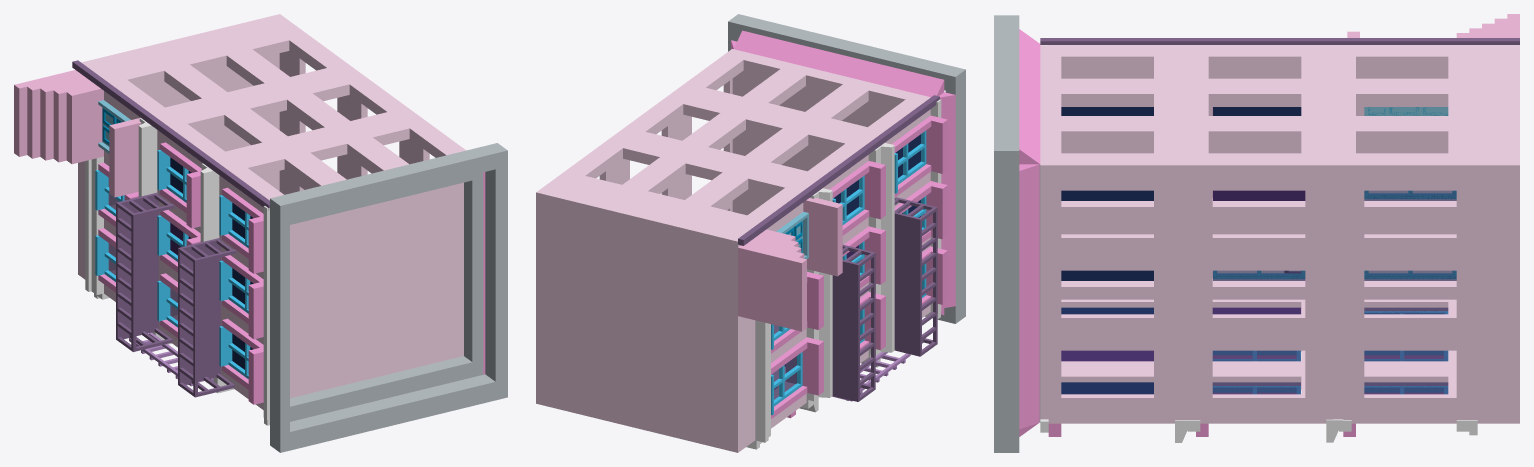
The model's file is tinker.obj.
3 views of the same model, side by side, from view 1: azimuth 30°, elevation 25°; view 2: azimuth 150°, elevation 25°; view 3: azimuth 270°, elevation 25° (orthographic). The views are drawn at different scales.
Parts seen in each view (by area): view 1: obj_93, obj_4, obj_9, obj_110, obj_28, obj_70, obj_66, obj_67, obj_17, obj_16, obj_18, obj_8 (+20 smaller); view 2: obj_93, obj_4, obj_110, obj_70, obj_28, obj_0, obj_67, obj_66, obj_3, obj_18, obj_7, obj_16 (+16 smaller); view 3: obj_93, obj_4, obj_1, obj_66, obj_0, obj_119, obj_115, obj_100, obj_101, obj_125, obj_128, obj_87 (+25 smaller).
Part boxes in pixels (x1,y1,x2,y2): obj_93: [78, 14, 465, 409]; obj_4: [270, 143, 507, 452]; obj_9: [290, 172, 483, 421]; obj_110: [14, 70, 103, 164]; obj_28: [116, 192, 174, 351]; obj_70: [178, 238, 236, 397]; obj_66: [72, 60, 269, 210]; obj_67: [109, 117, 141, 197]; obj_17: [263, 206, 269, 419]; obj_16: [138, 122, 157, 196]; obj_18: [200, 167, 219, 242]; obj_8: [91, 156, 103, 294]; obj_93: [536, 49, 930, 452]; obj_4: [728, 14, 965, 323]; obj_110: [738, 229, 806, 331]; obj_70: [894, 197, 937, 356]; obj_28: [832, 244, 875, 401]; obj_0: [734, 30, 944, 97]; obj_67: [803, 198, 842, 276]; obj_66: [738, 95, 939, 245]; obj_3: [939, 92, 955, 308]; obj_18: [880, 143, 894, 352]; obj_7: [755, 320, 768, 442]; obj_16: [818, 188, 832, 397]; obj_93: [1040, 45, 1519, 423]; obj_4: [994, 15, 1019, 452]; obj_1: [1019, 164, 1039, 429]; obj_66: [1040, 38, 1519, 44]; obj_0: [1019, 29, 1040, 164]; obj_119: [1061, 382, 1153, 394]; obj_115: [1061, 350, 1153, 361]; obj_100: [1213, 382, 1300, 393]; obj_101: [1213, 382, 1300, 393]; obj_125: [1061, 190, 1153, 200]; obj_128: [1061, 270, 1153, 280]; obj_87: [1213, 190, 1305, 200].
Size of the model in its own units: 97.97 by 83 by 131.
